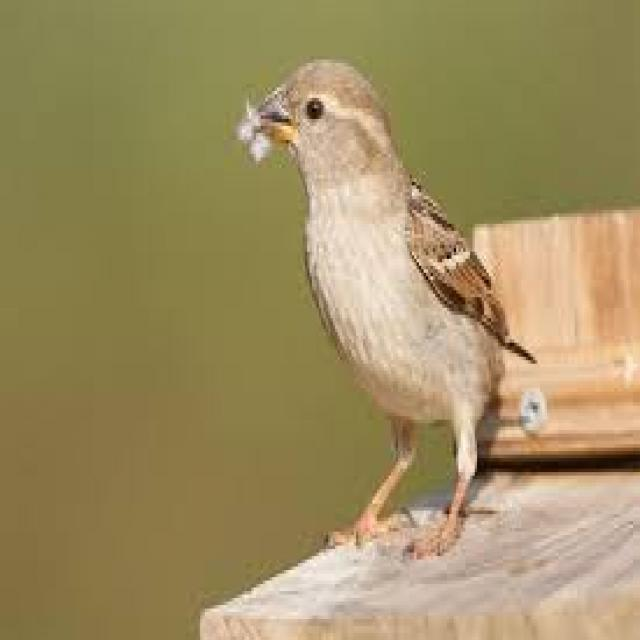bird: (245, 56, 530, 564)
